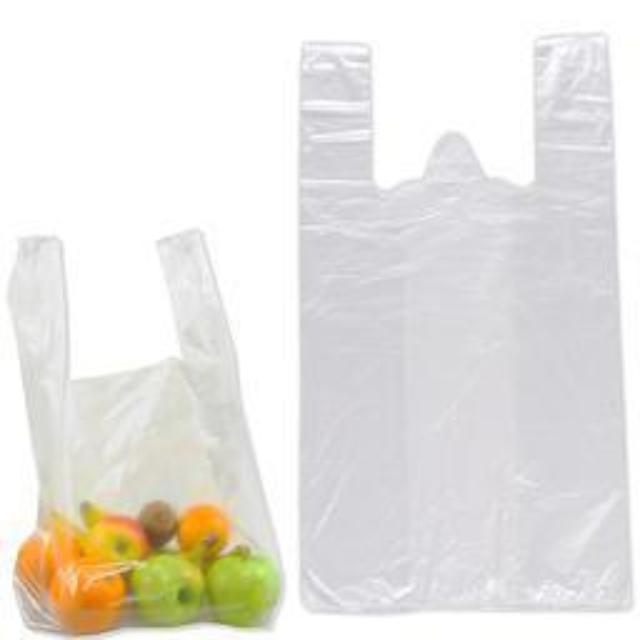Bolsa-de-plastico: (302, 33, 623, 615), (10, 232, 290, 616)
